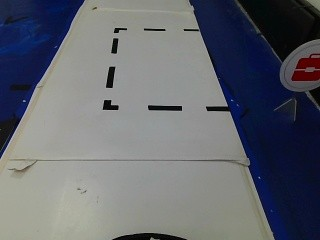company: (276, 40, 318, 93)
